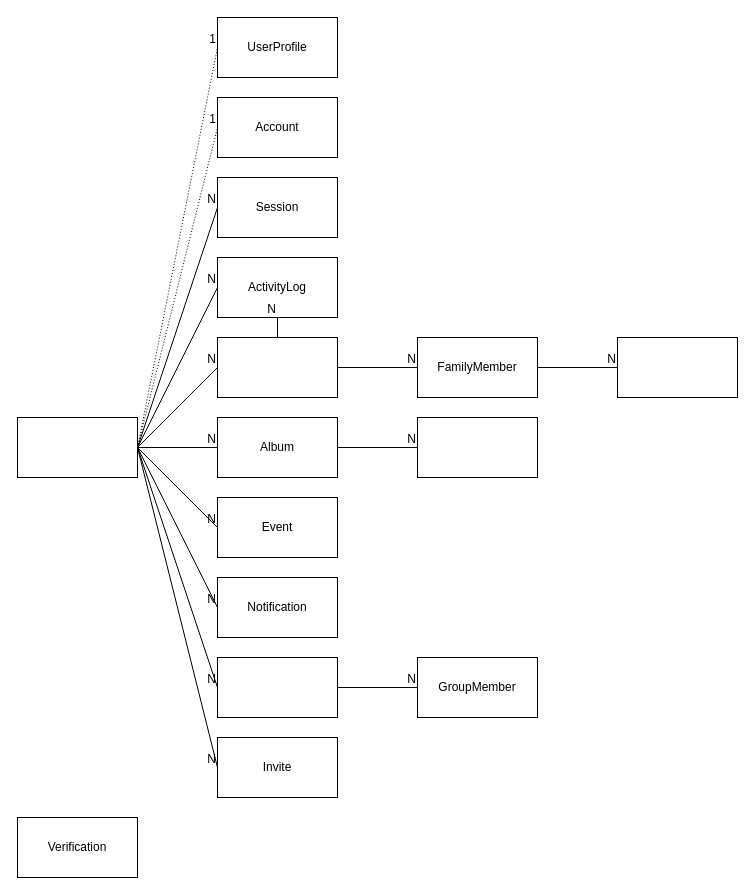
The diagram is 755 pixels wide and 895 high, and some of its shapes have lost their labels. The centre of each missing label's shape, as x and y in pixels:
"Family" goes at (x=277, y=367).
"Group" goes at (x=277, y=687).
"Photo" goes at (x=477, y=447).
"Relationship" goes at (x=677, y=367).
"User" goes at (x=77, y=447).
